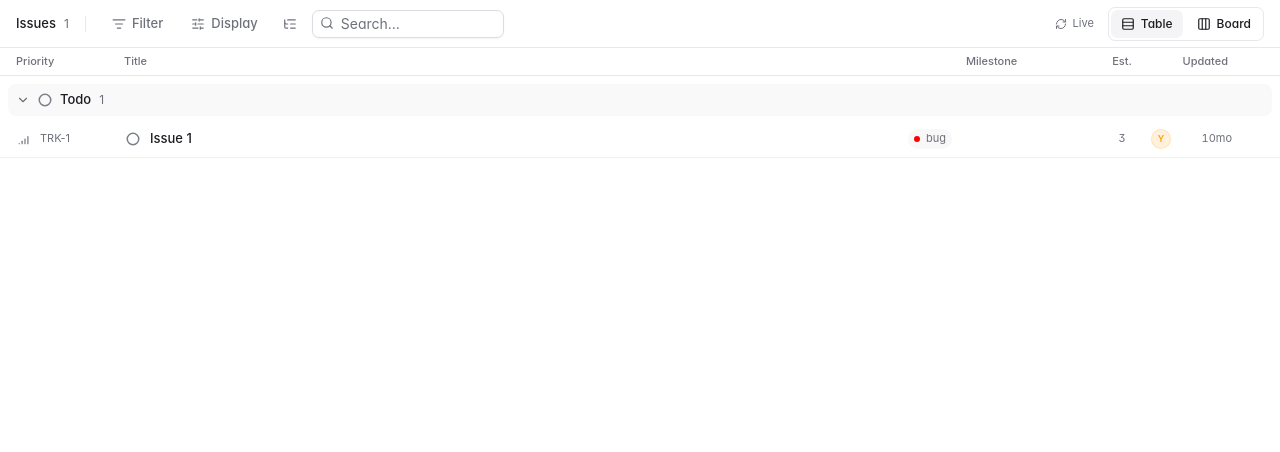
context menu on table rows › shows the usual conflict notice for a stale write
The width and height of the screenshot is (1280, 452).
Right-click the element "Issue 1".
right_click(640, 139)  # box [0,120,1279,158]
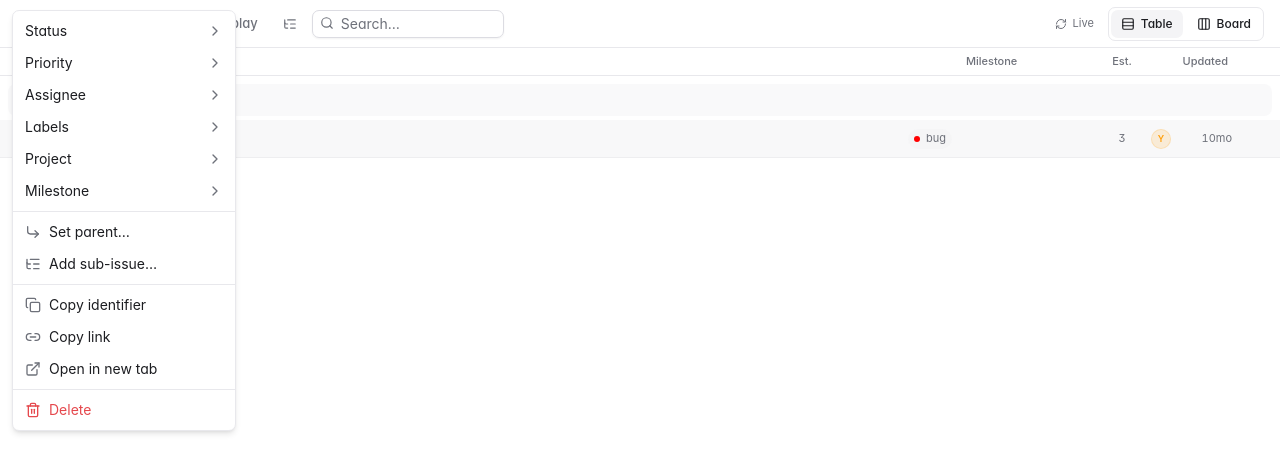
Click the menu item "Assignee".
click(56, 94)  # box [25,86,223,103]
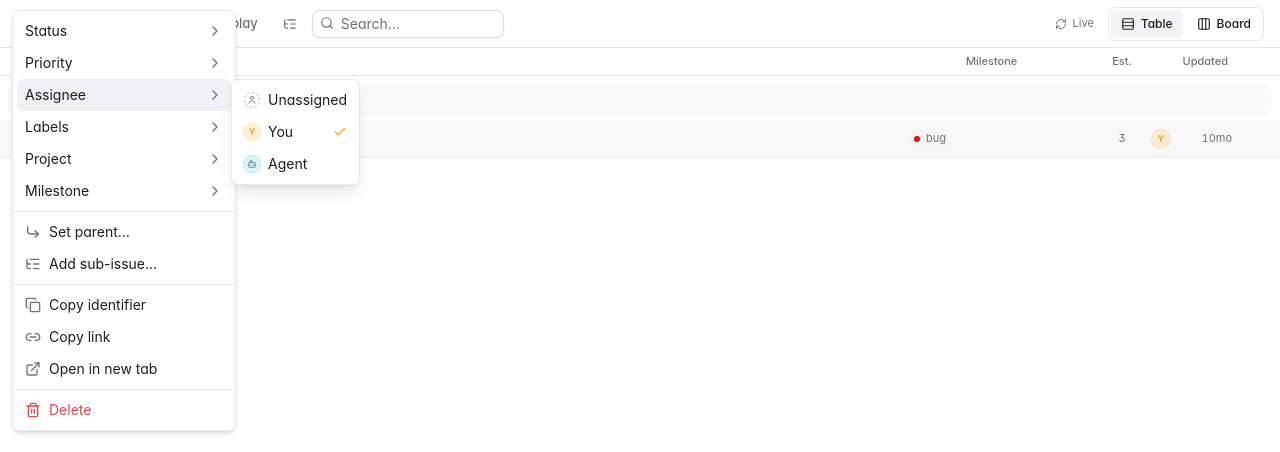
Click the menu item "Agent".
click(276, 164)  # box [244,155,307,172]
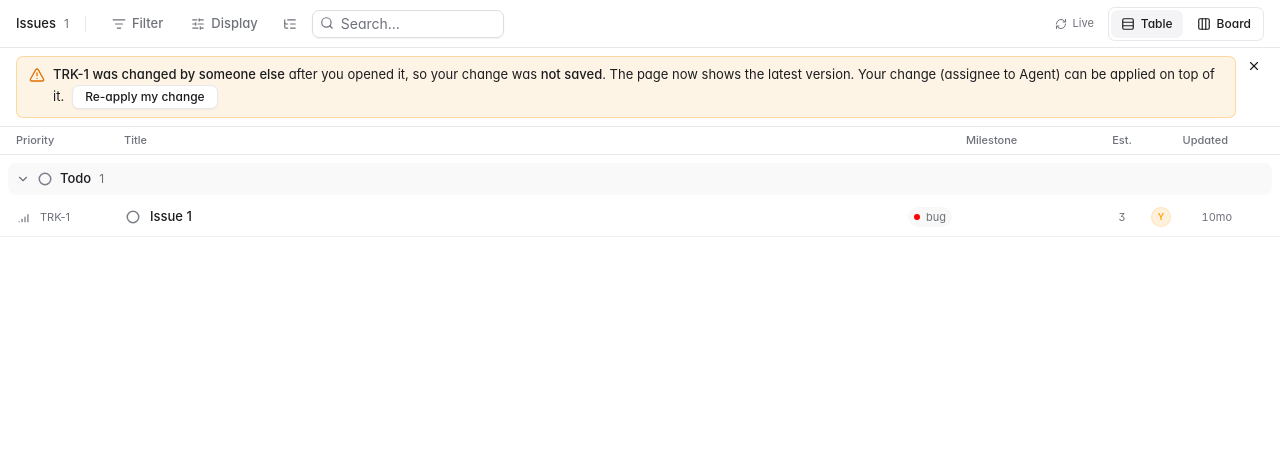
Result: the message shows "TRK-1 was changed by someone else" at [16,56,1236,118]
